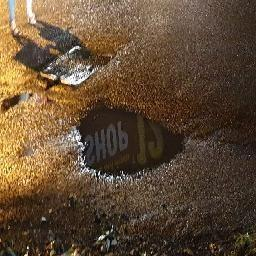water accumulation: (76, 101, 187, 178), (1, 90, 34, 112)
